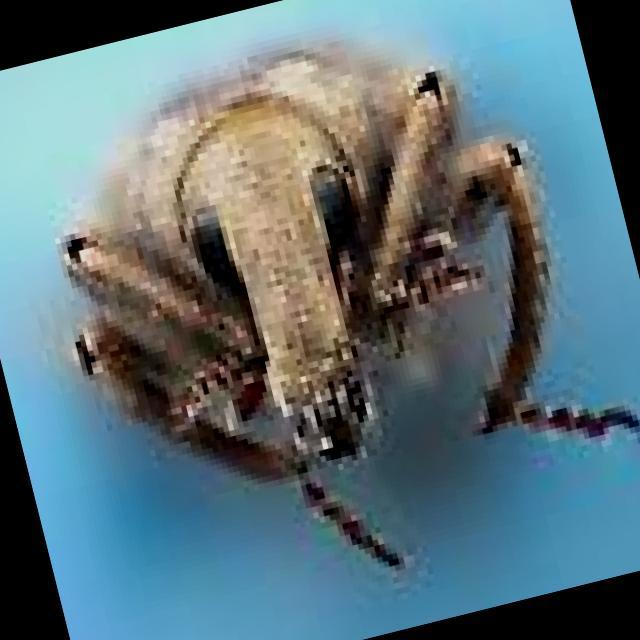ricebug: (61, 42, 549, 568)
